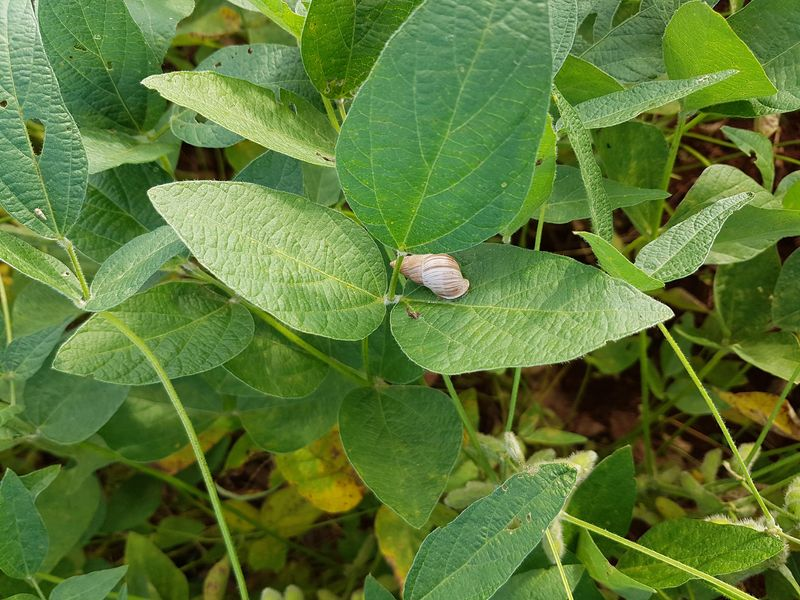Gastropoda: (381, 243, 474, 310)
